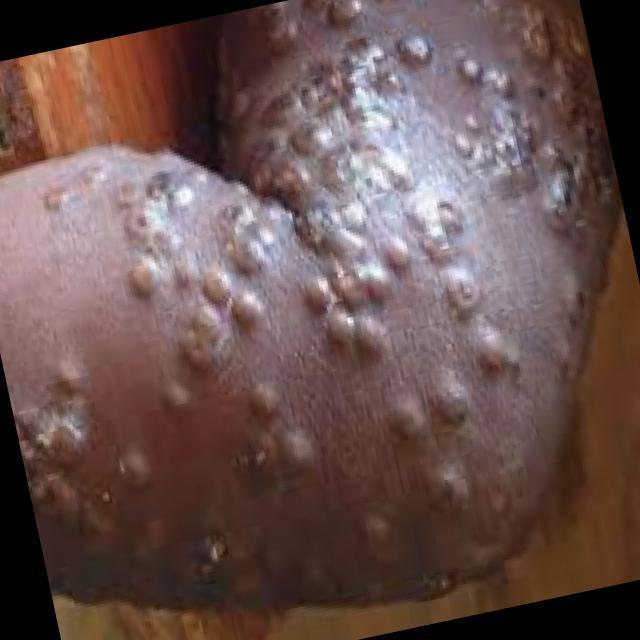Eczema: (21, 1, 607, 606)
